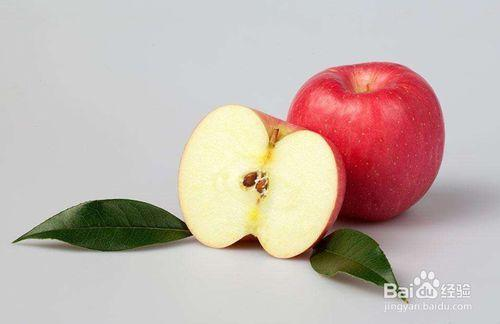apple: (177, 100, 347, 259), (287, 62, 446, 225)
